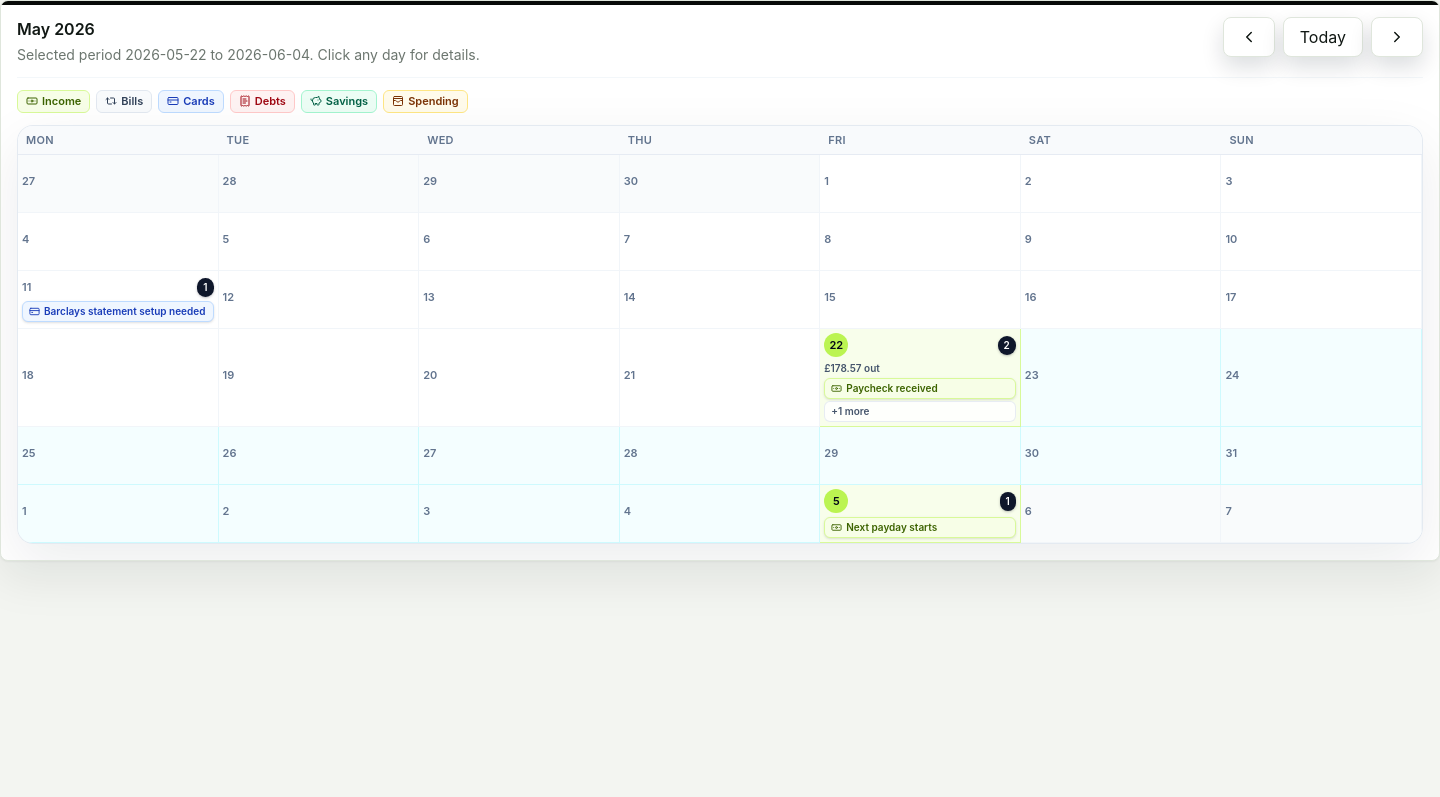
Test: calendar page › shows unticked linked-card pot checklist items on the calendar as not completed
Click the button with aria-label "Open 22 May 2026" at {"x": 921, "y": 378}, box x1=820 y1=329 x2=1021 y2=427
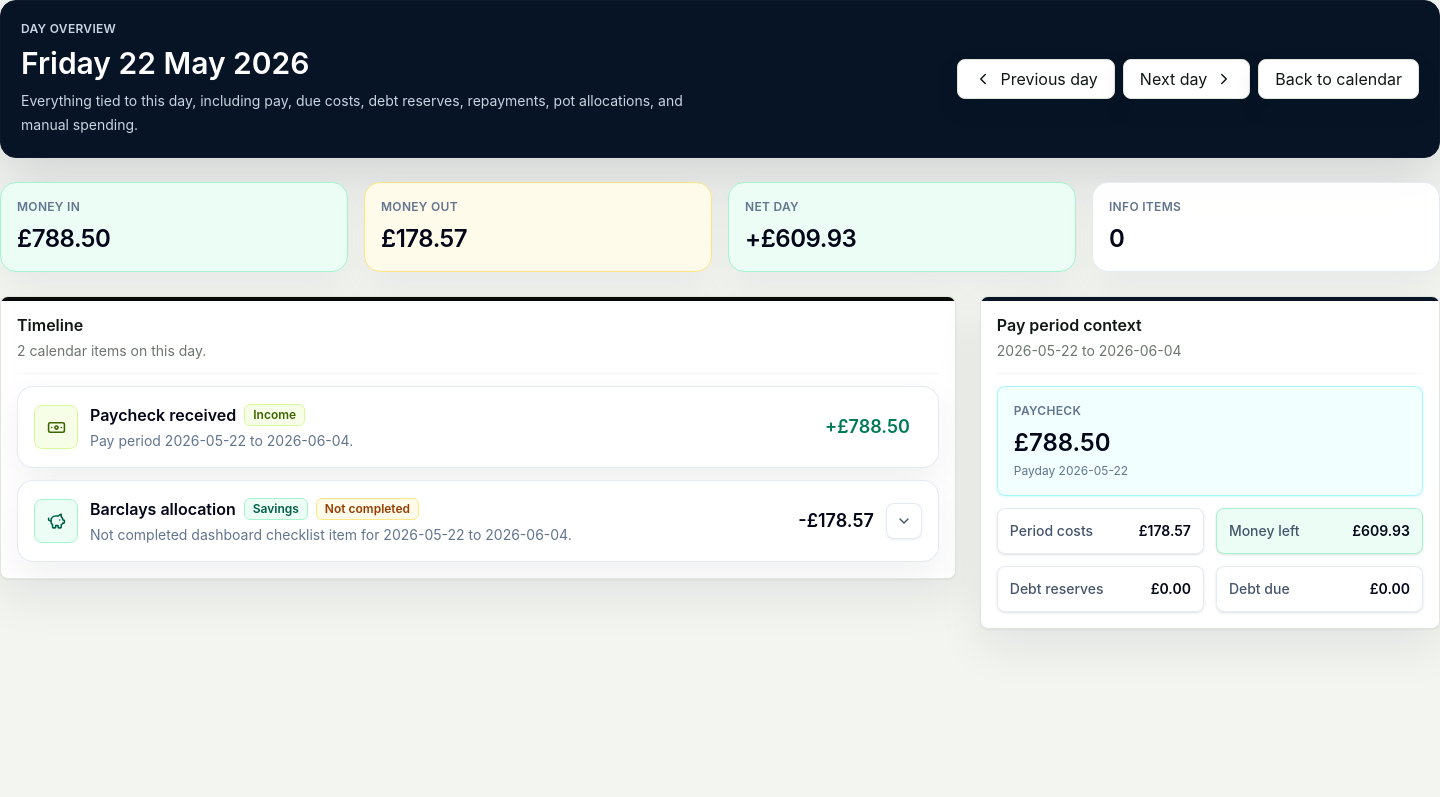
Now the text "Barclays allocation" is shown, box x1=90 y1=499 x2=236 y2=519
Now the text "Not completed" is shown, box x1=316 y1=498 x2=419 y2=520
Click the button named "Show breakdown for Barclays allocation -£178.57" at {"x": 904, "y": 521}, box x1=886 y1=503 x2=922 y2=539
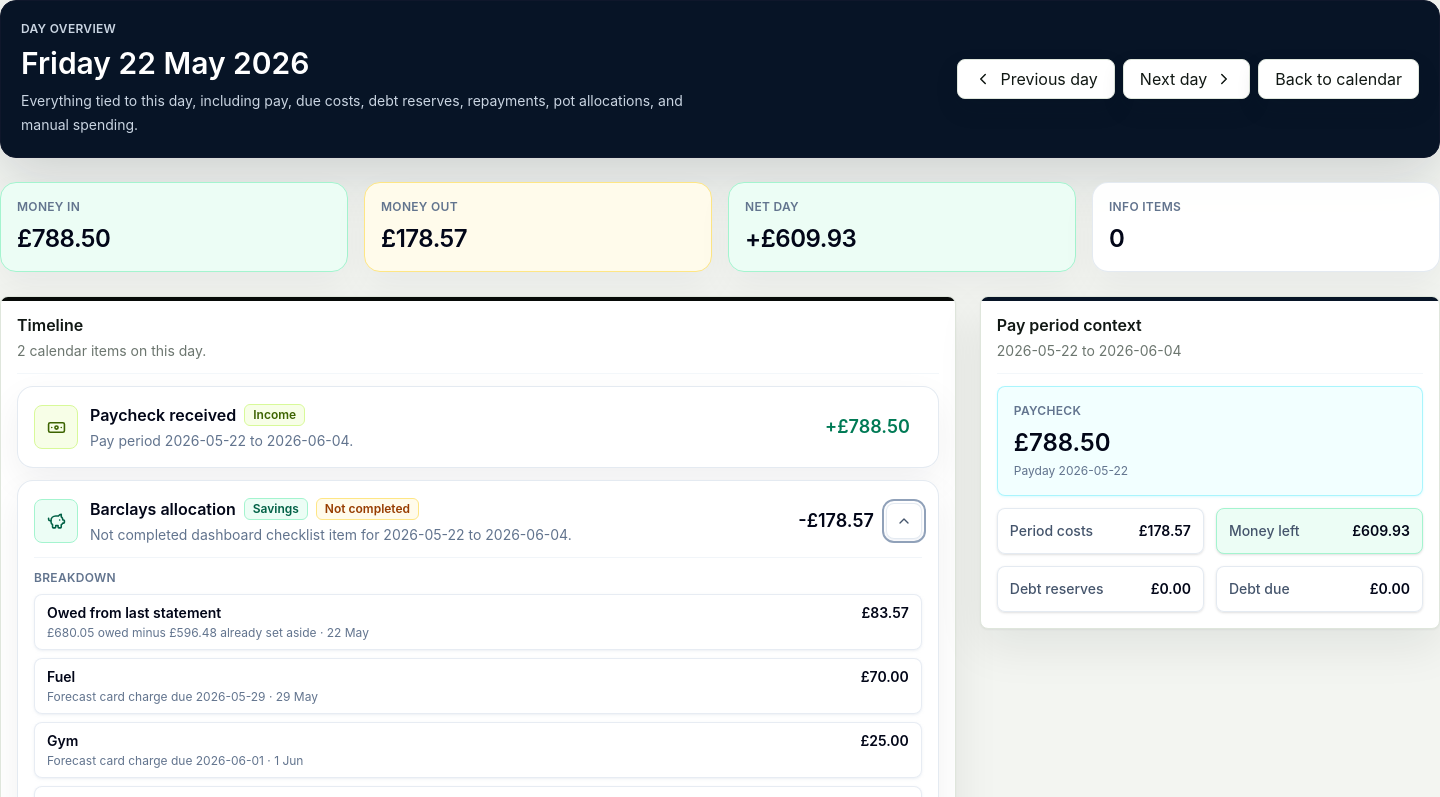
Now the text "Owed from last statement" is shown, box x1=47 y1=604 x2=221 y2=621
Now the text "Fuel" is shown, box x1=47 y1=668 x2=75 y2=685
Now the text "Gym" is shown, box x1=47 y1=732 x2=78 y2=749
